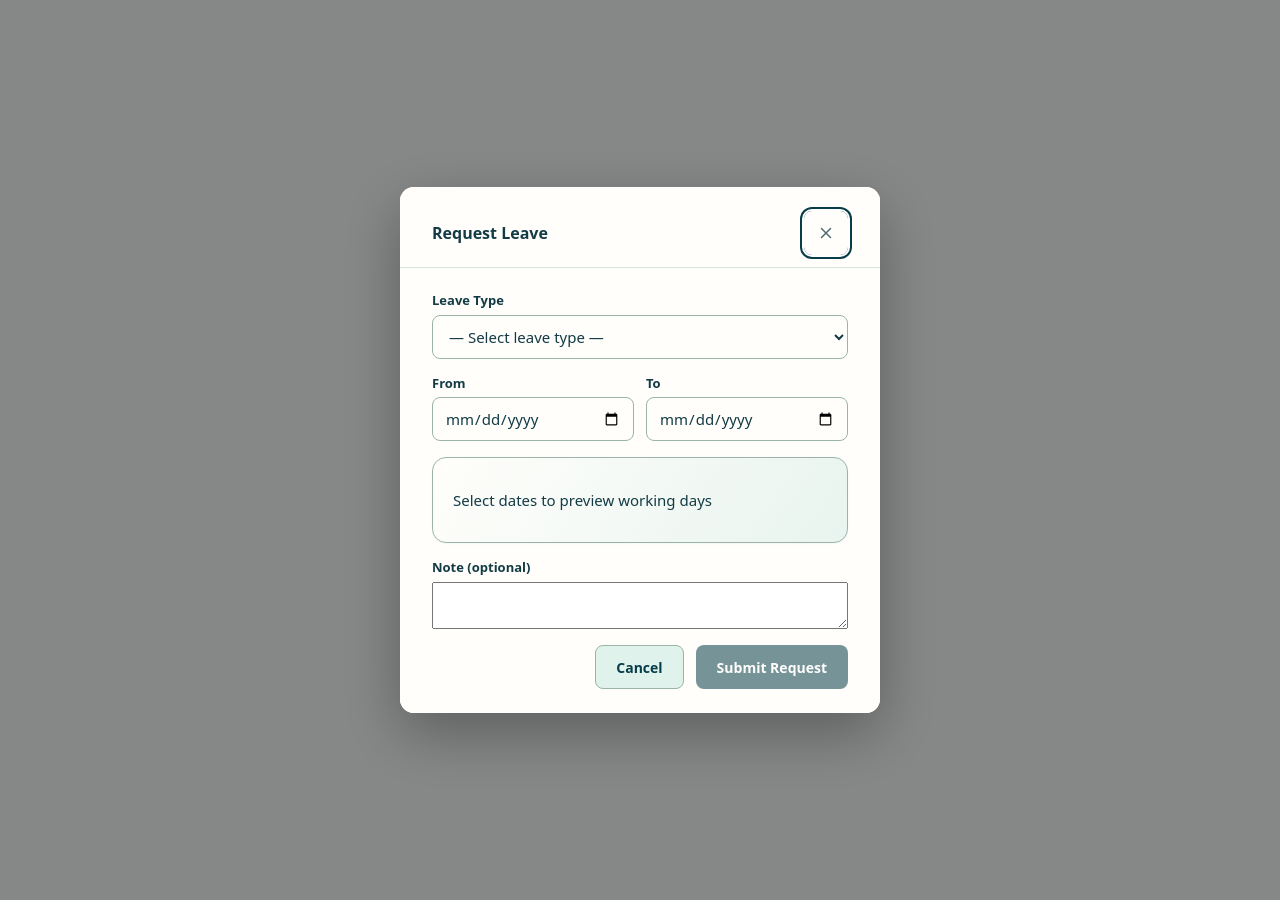
Test: RequestLeaveModal — Story 3.4 › [P1] surfaces insufficient-balance problem.detail on submit failure
This screenshot has width=1280, height=900.
Select "🌴 Annual Leave" in the dropdown labelled "Leave Type" at (640, 336), box [432,314,848,358]
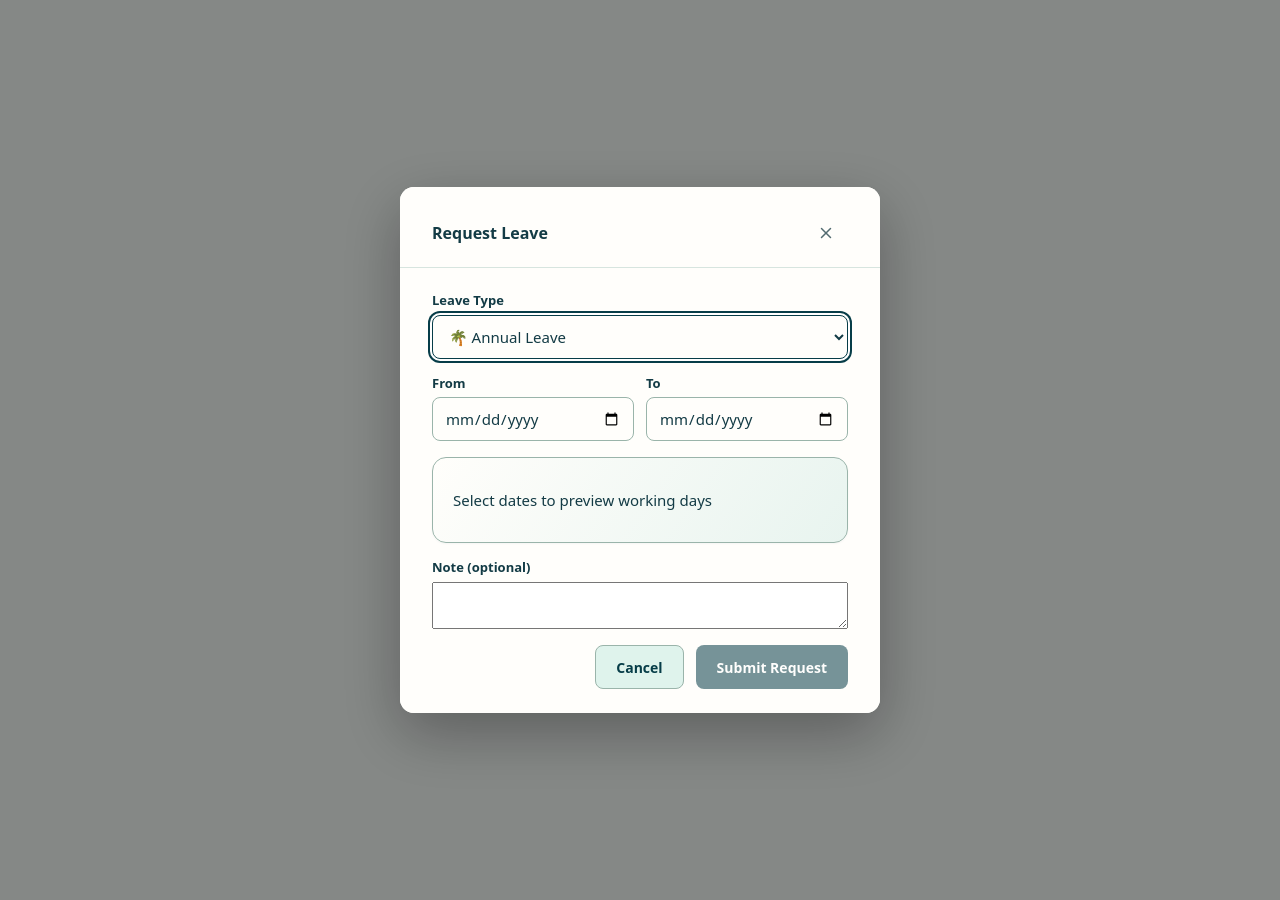
Type "2026-06-01" into the date field with test id "leave-from-date".
click(533, 419); type("2026-06-01")  # box [432,397,634,441]
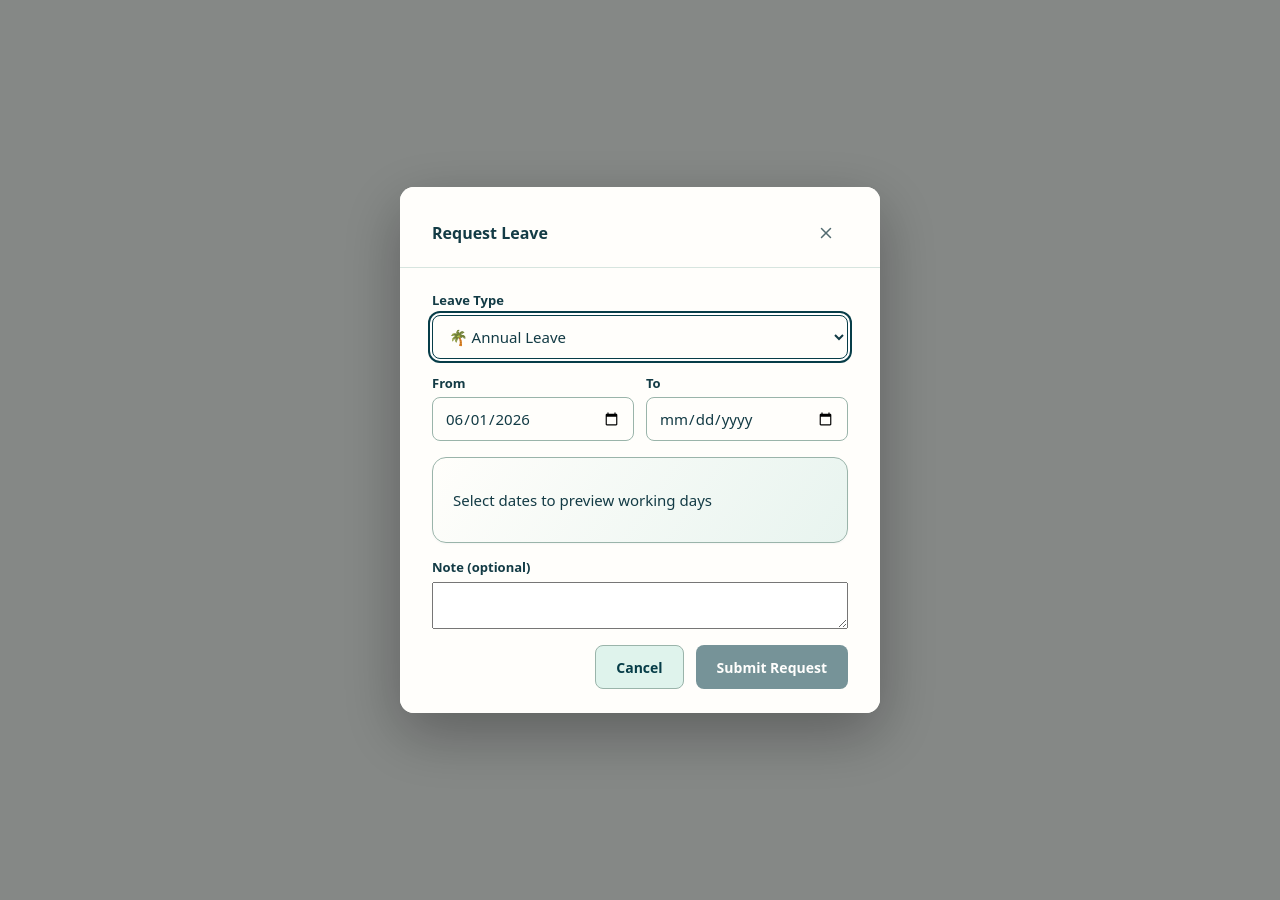
Type "2026-06-07" into the date field with test id "leave-to-date".
click(747, 419); type("2026-06-07")  # box [646,397,848,441]
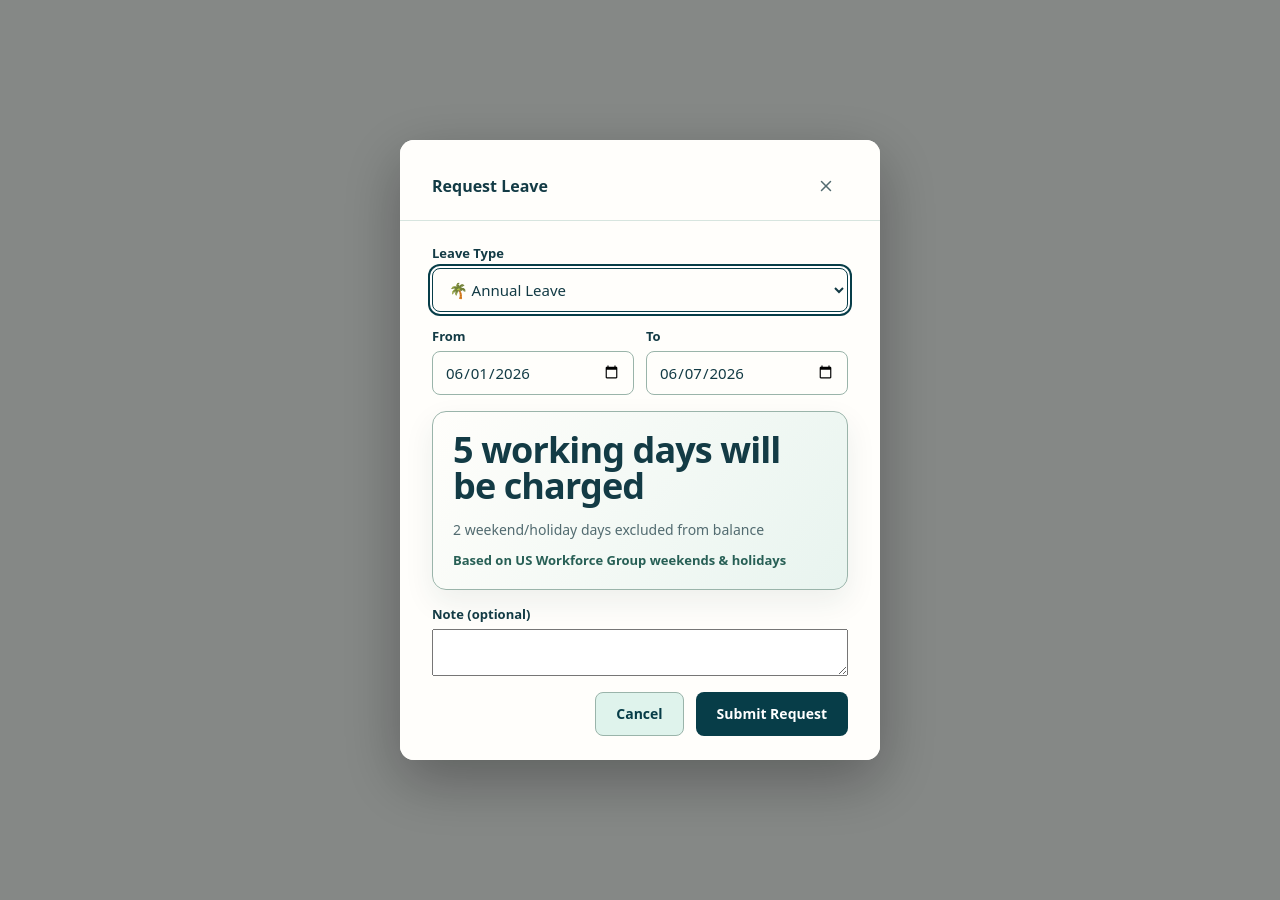
Result: the button with test id "submit-request-btn" is enabled
Click the button with test id "submit-request-btn".
click(772, 714)  # box [696,692,848,736]
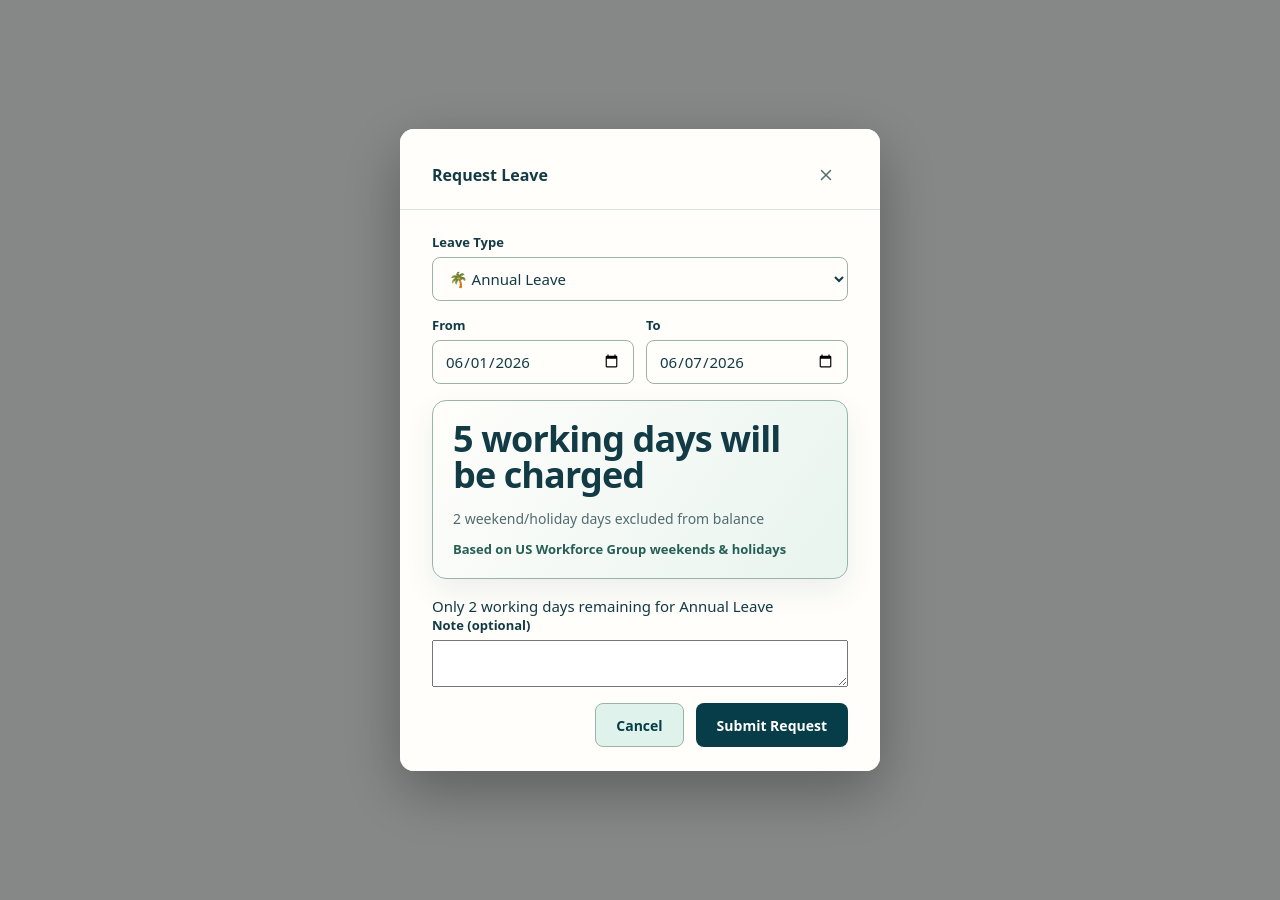
Result: the message "Only 2 working days remaining for Annual Leave" is shown at [432,596,774,616]
